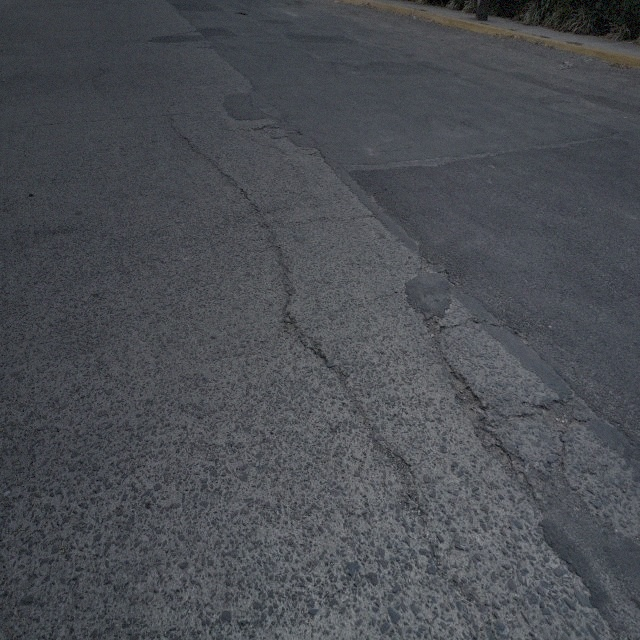pothole: (443, 359, 503, 462), (377, 439, 422, 520), (534, 395, 576, 435), (418, 251, 446, 279), (423, 318, 444, 348), (464, 317, 478, 330)
